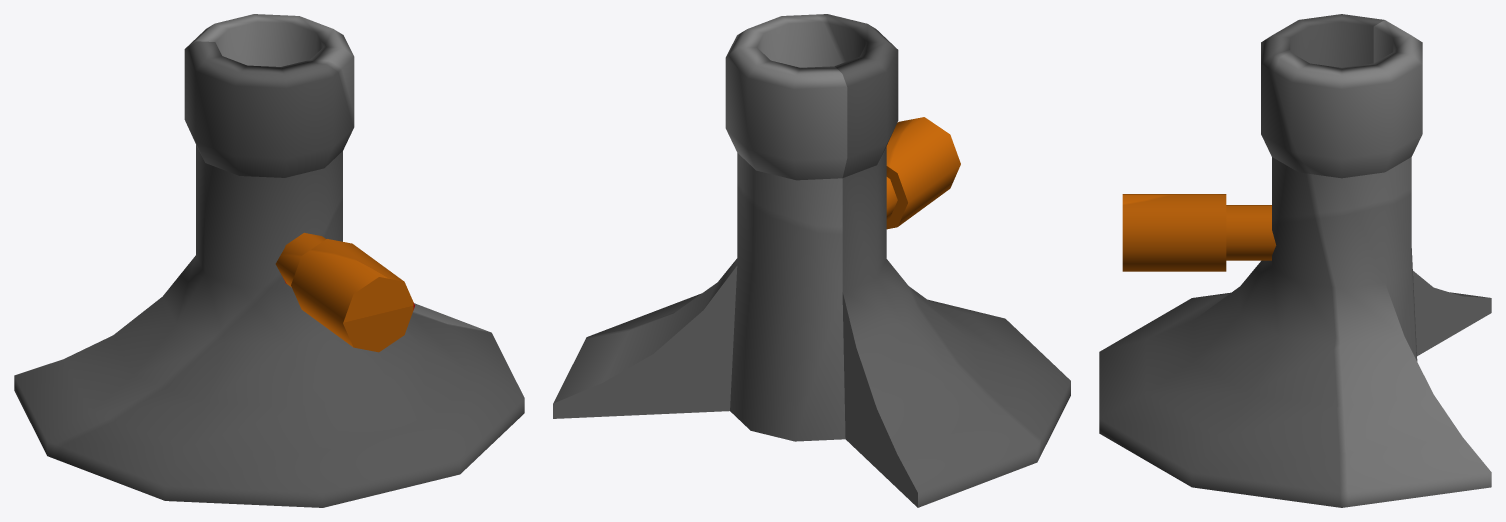
The model's file is Burner CP.fbx.
3 views of the same model, side by side, from view 1: azimuth 30°, elevation 25°; view 2: azimuth 150°, elevation 25°; view 3: azimuth 270°, elevation 25° (orthographic). The views are drawn at different scales.
Visible parts, largest first — view 1: BurnerCP; view 2: BurnerCP; view 3: BurnerCP.
Part boxes in pixels (box(x1,y1,x2,y2)): BurnerCP: box(14, 14, 524, 507); BurnerCP: box(553, 14, 1070, 507); BurnerCP: box(1099, 14, 1491, 507).
Size of the model in its own units: 2 by 1.54 by 1.54.
Materials: 1 (1 with a texture image).
